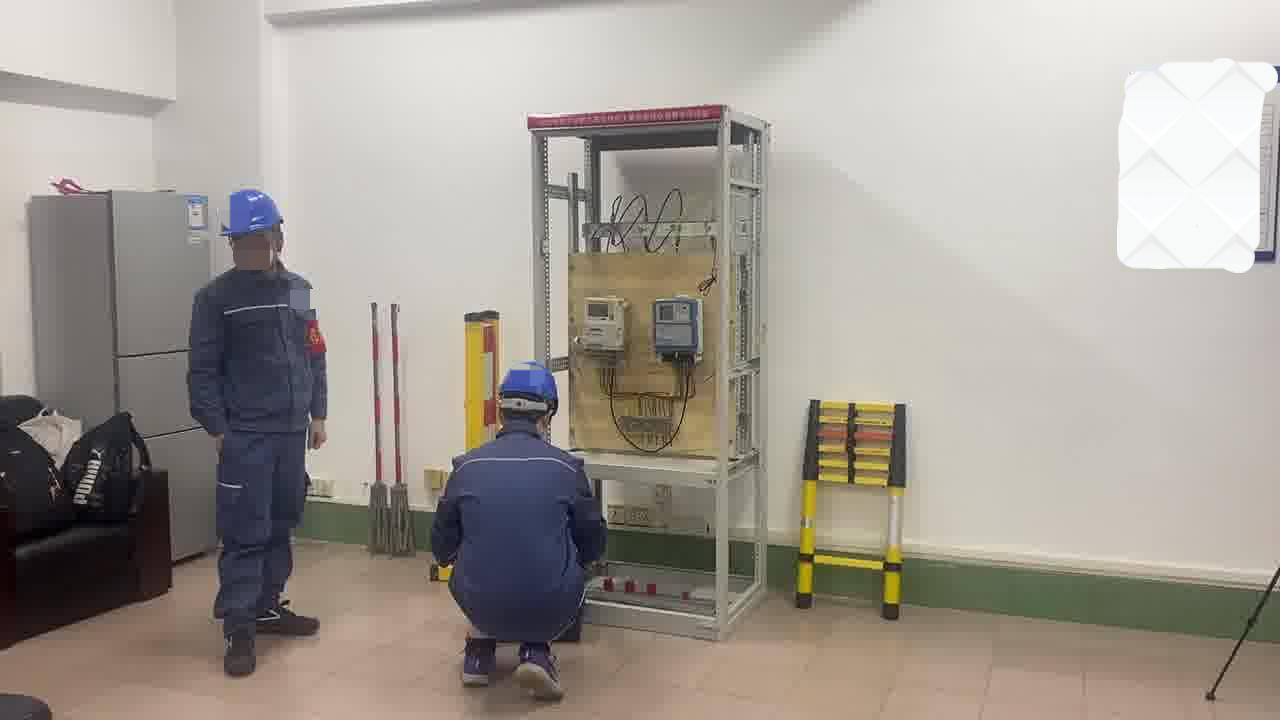halt: (221, 188, 291, 272), (499, 365, 564, 429)
